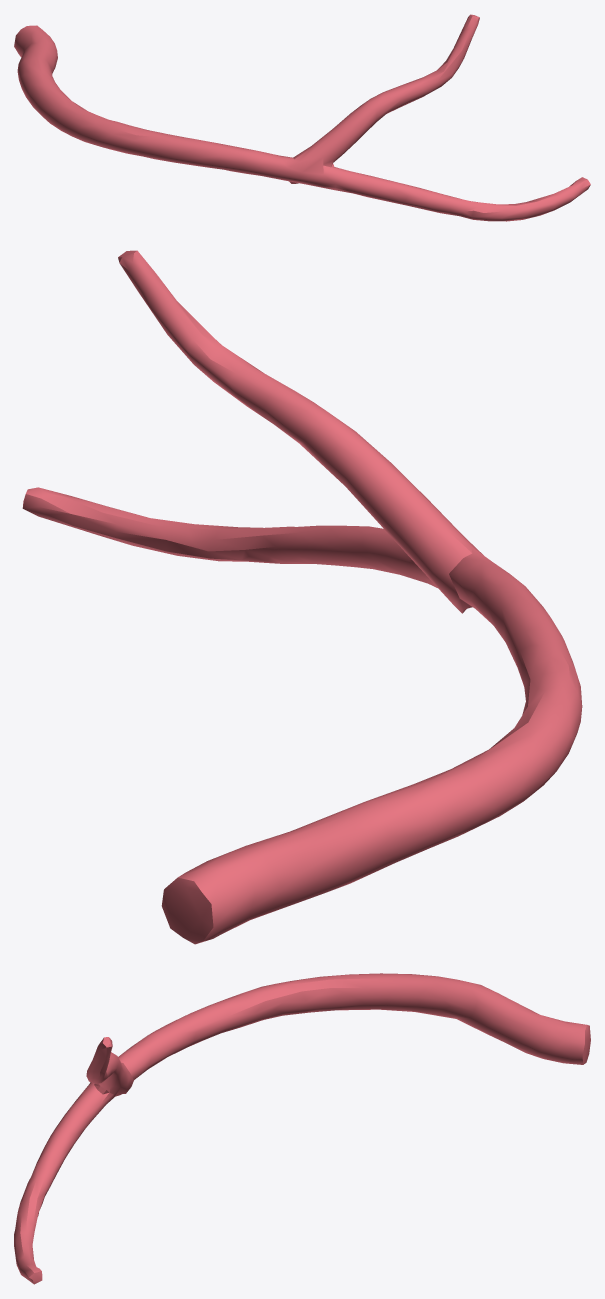
Rendered from fma3807_mm441.glb.
3 views of the same model, one above another, from view 1: azimuth 30°, elevation 25°; view 2: azimuth 150°, elevation 25°; view 3: azimuth 270°, elevation 25° (orthographic). The views are drawn at different scales.
Visible parts, largest first — view 1: FMA3807_MM441; view 2: FMA3807_MM441; view 3: FMA3807_MM441.
Boxes of the visible parts, bbox=[...] form: FMA3807_MM441: bbox=[14, 14, 590, 221]; FMA3807_MM441: bbox=[22, 250, 582, 944]; FMA3807_MM441: bbox=[14, 973, 590, 1284].
Bounding box in the file's own units: 0.0309 × 0.0135 × 0.0335.
